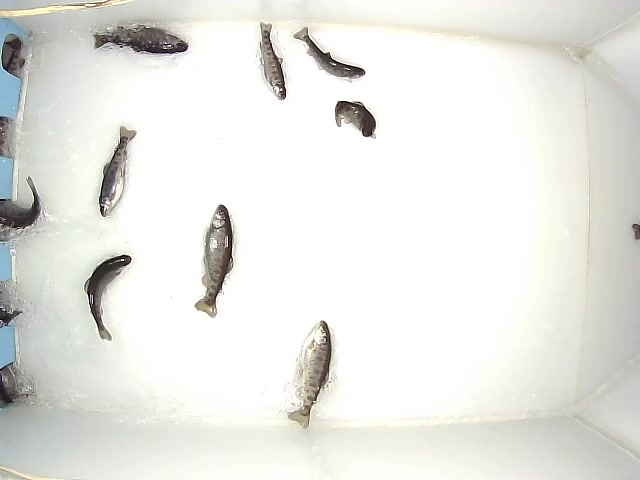fish: (287, 320, 332, 429), (194, 204, 234, 318), (292, 26, 366, 84), (83, 254, 132, 341), (99, 125, 137, 217), (93, 25, 189, 54), (259, 21, 286, 101), (335, 101, 377, 139)
